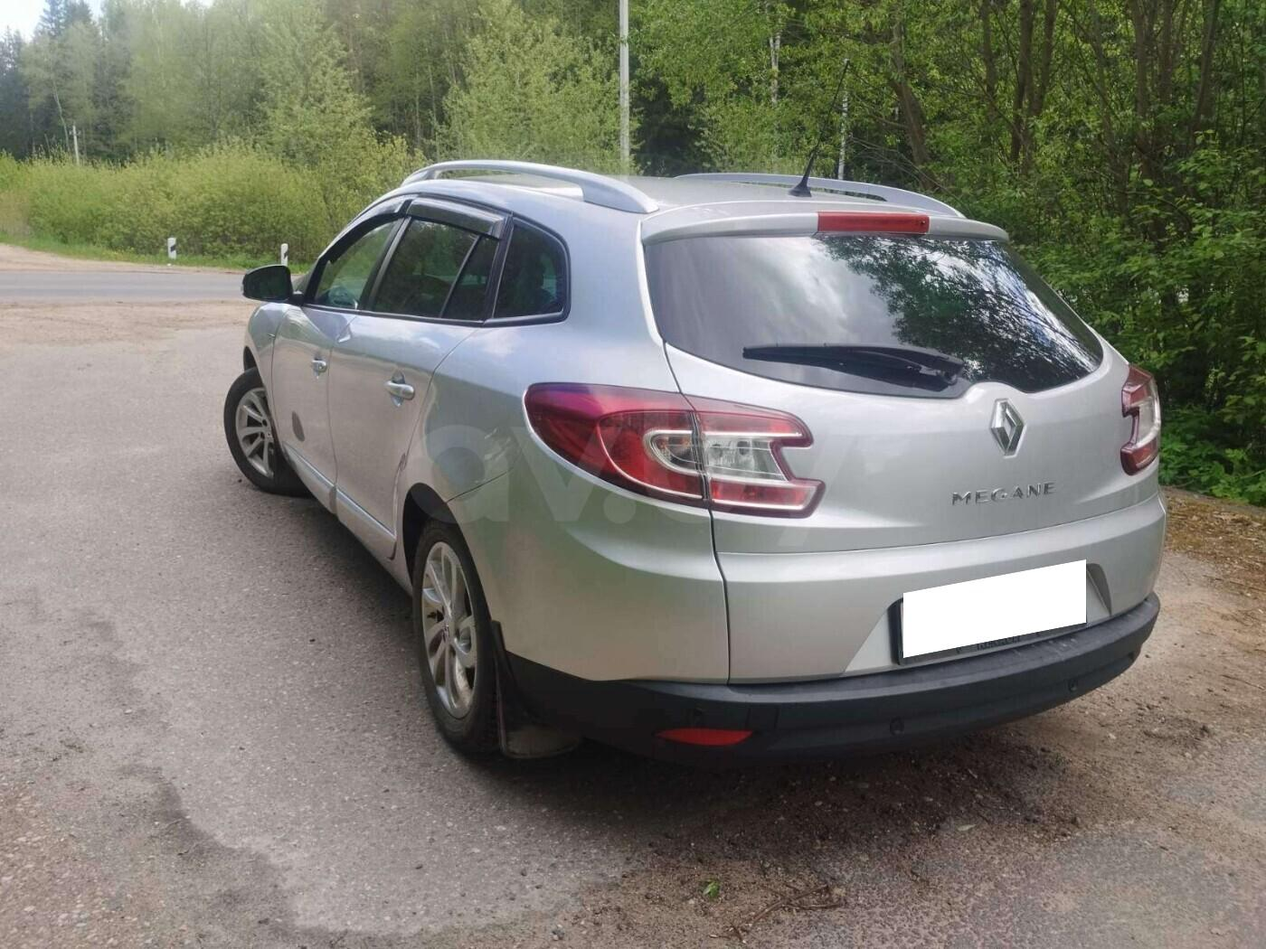Megane_2014-2016: (220, 161, 1181, 779)
